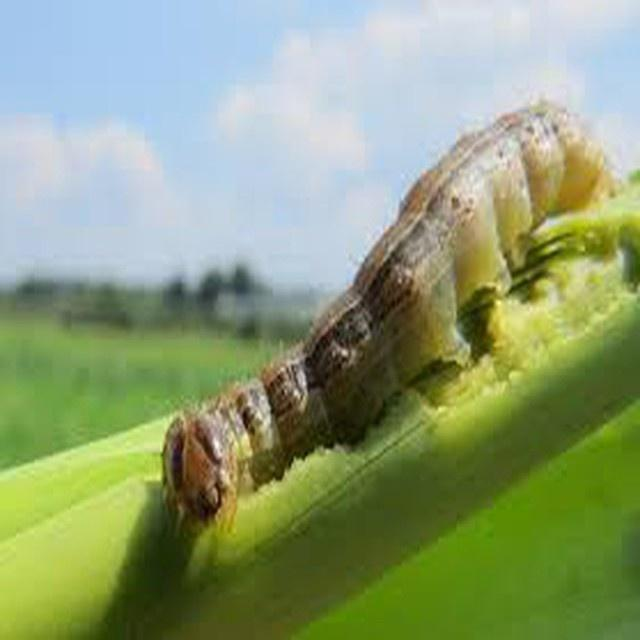gusano_cogollero: (158, 98, 598, 530)
